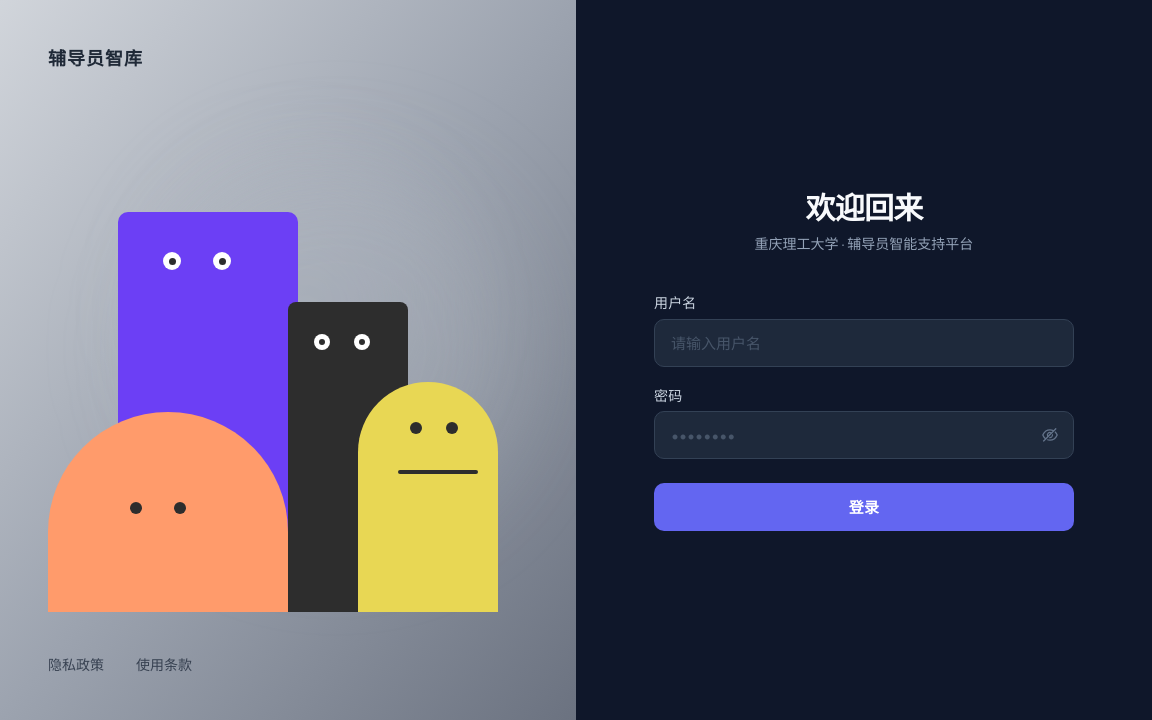
Scenario: Login › should show error when password is empty
This screenshot has width=1152, height=720.
Type "testuser" into the field labelled "用户名" at (864, 342), box x1=654 y1=318 x2=1074 y2=366
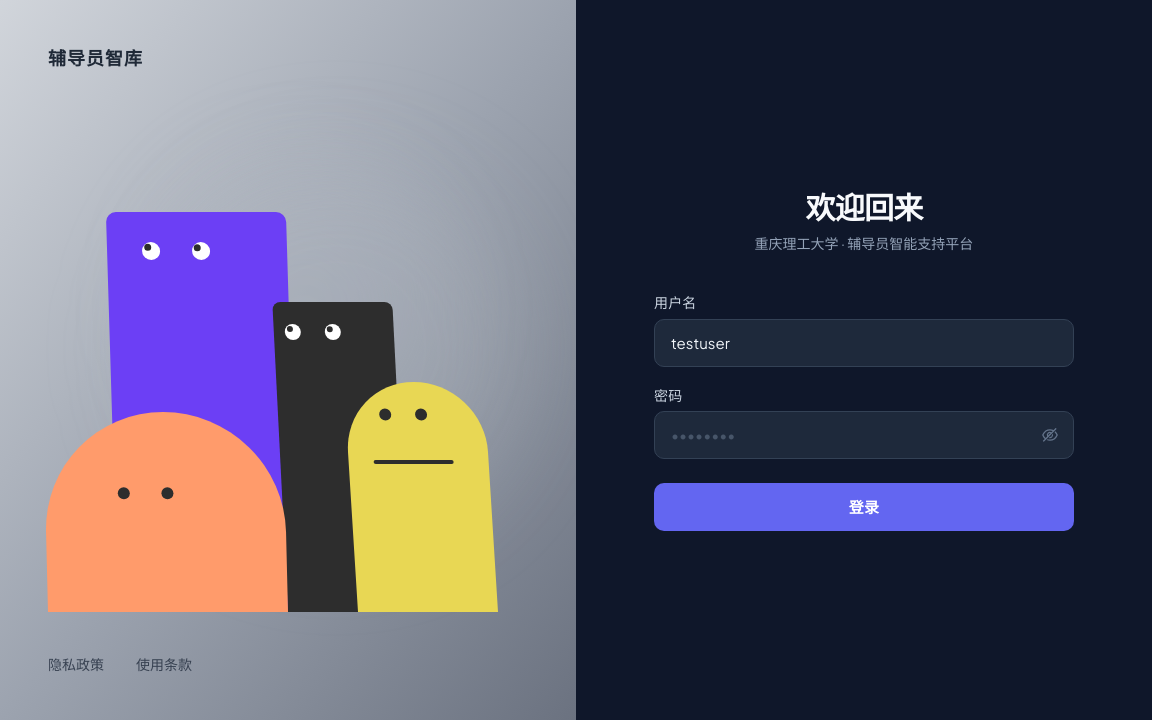
Click the button "登录" at (864, 507), box x1=654 y1=483 x2=1074 y2=531
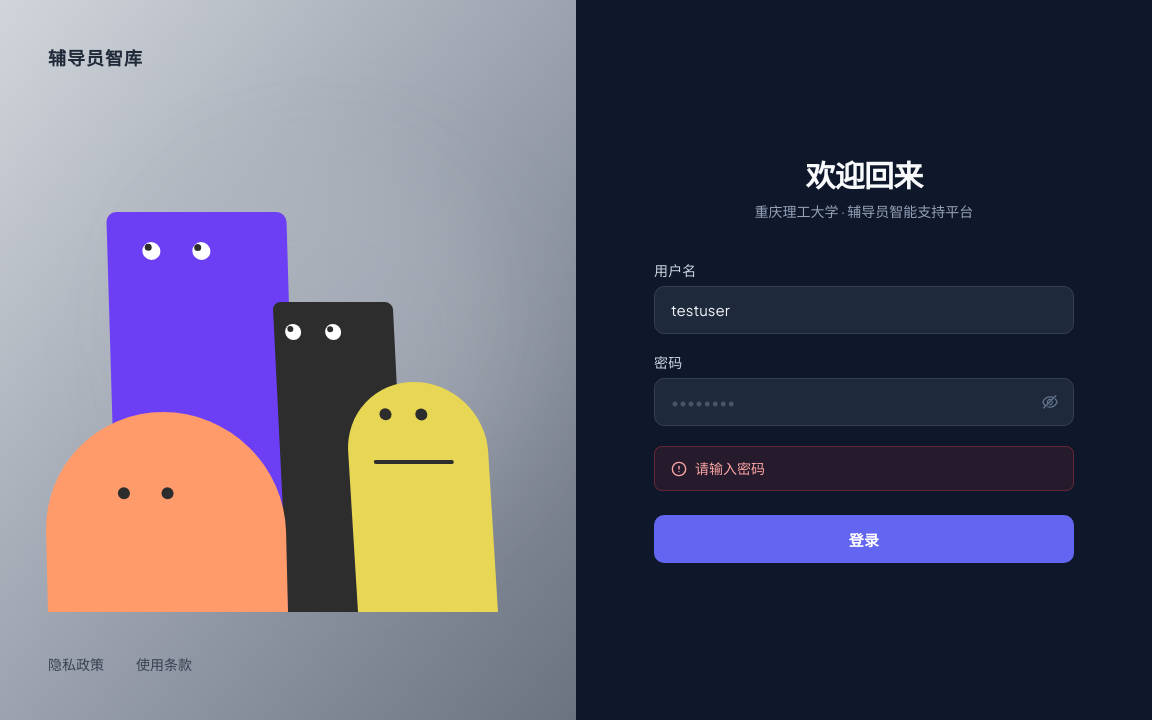
Expected: the message reads "请输入密码", x1=695 y1=459 x2=765 y2=477
